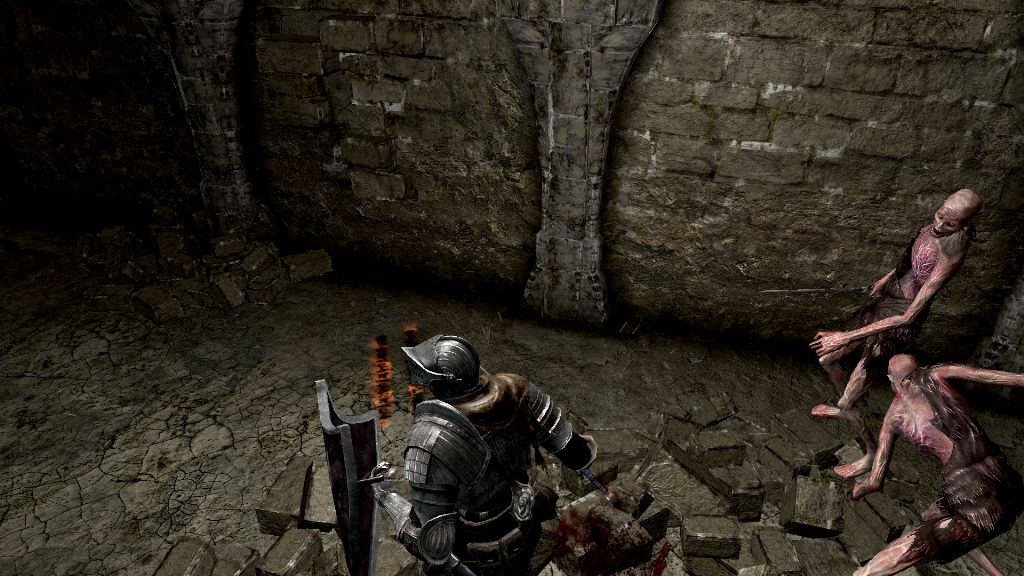hollow: (808, 187, 982, 476), (850, 352, 1024, 576)
player: (314, 334, 609, 576)
